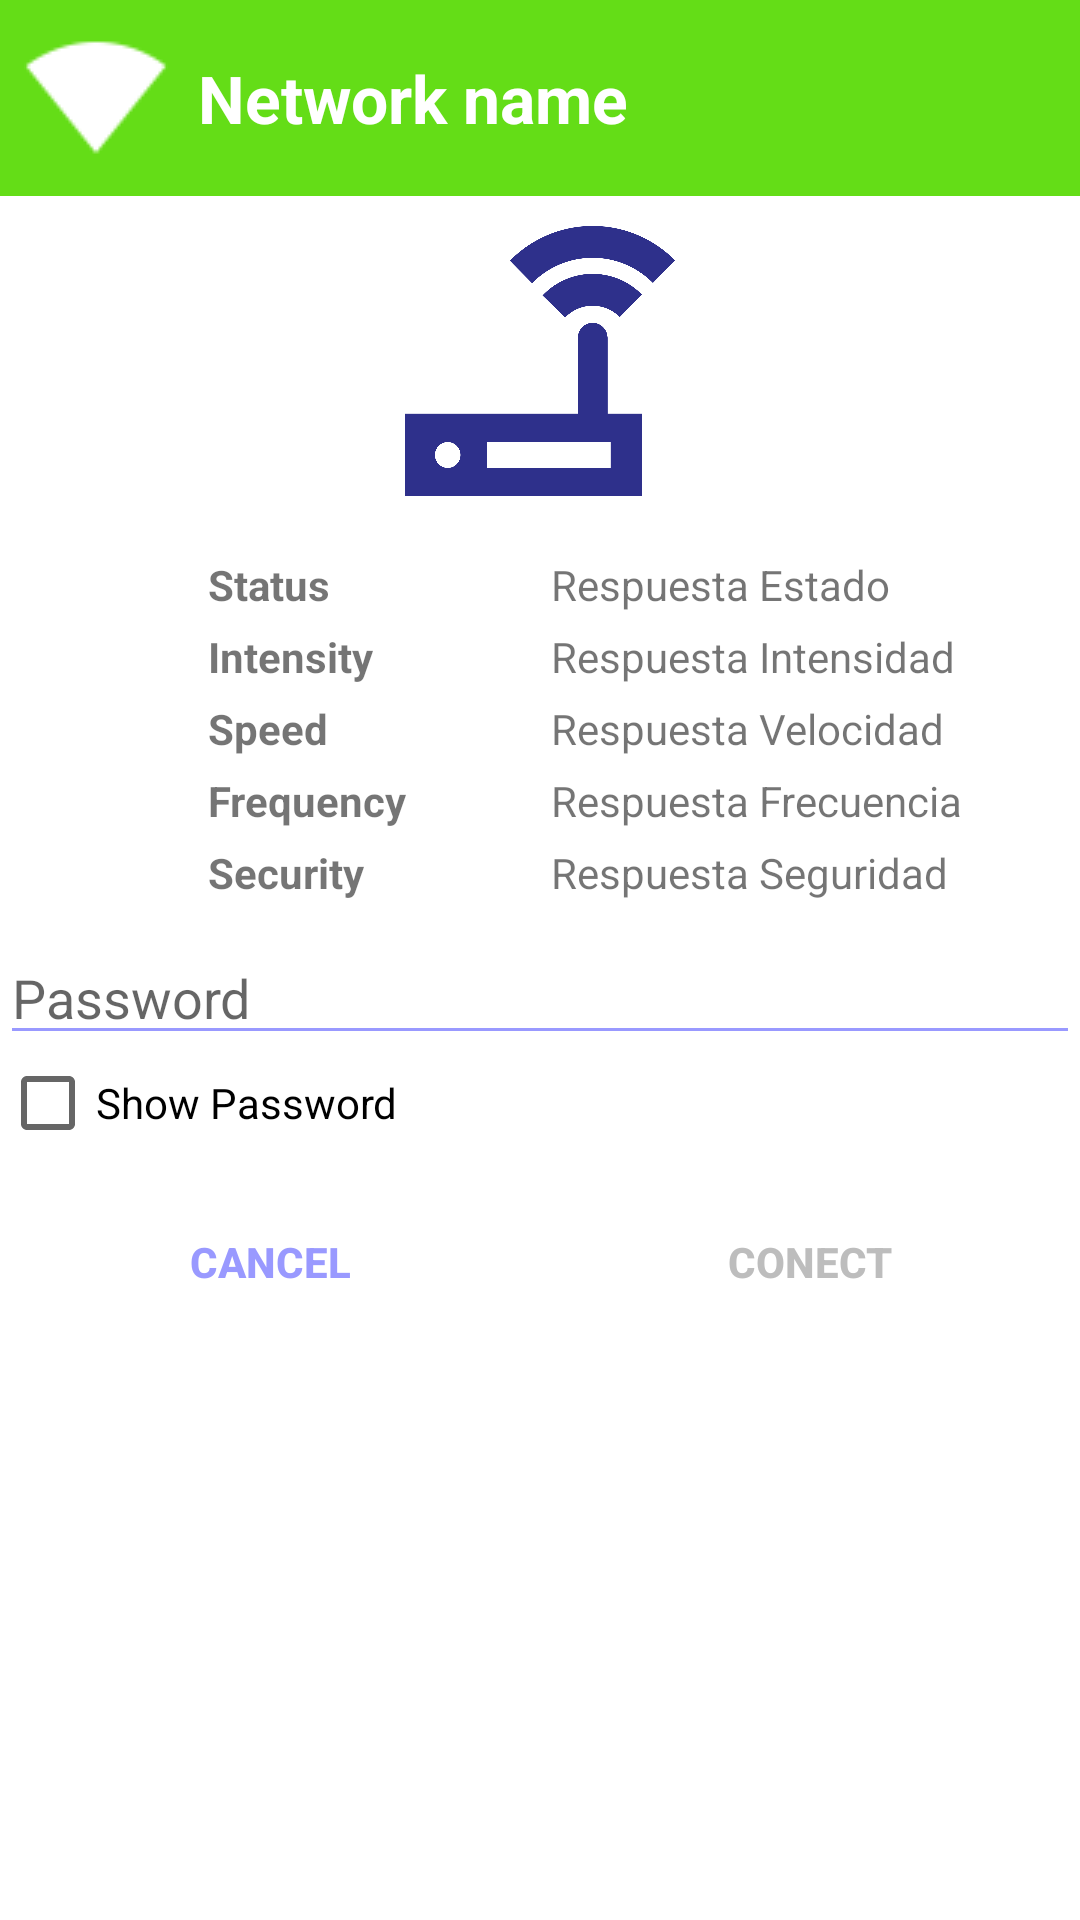

Point at icon controls on the screen. Image size 1080 x 1920, points as point (x, y).
router: point (540, 361)
wifi blanco: point (96, 97)
